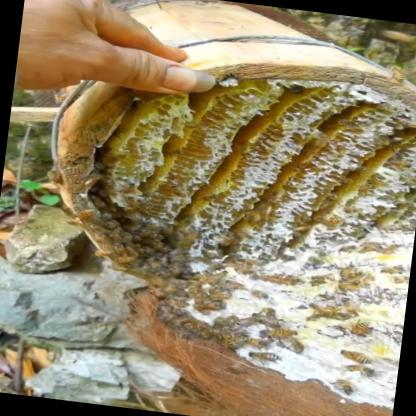bee: (260, 192, 416, 303), (143, 292, 306, 369), (74, 196, 204, 281), (301, 288, 406, 382), (60, 148, 134, 199), (382, 153, 416, 182)
